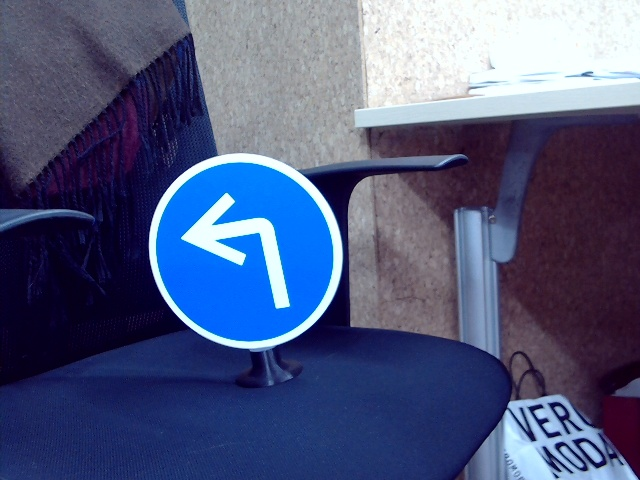turn_left: (181, 185, 292, 316)
